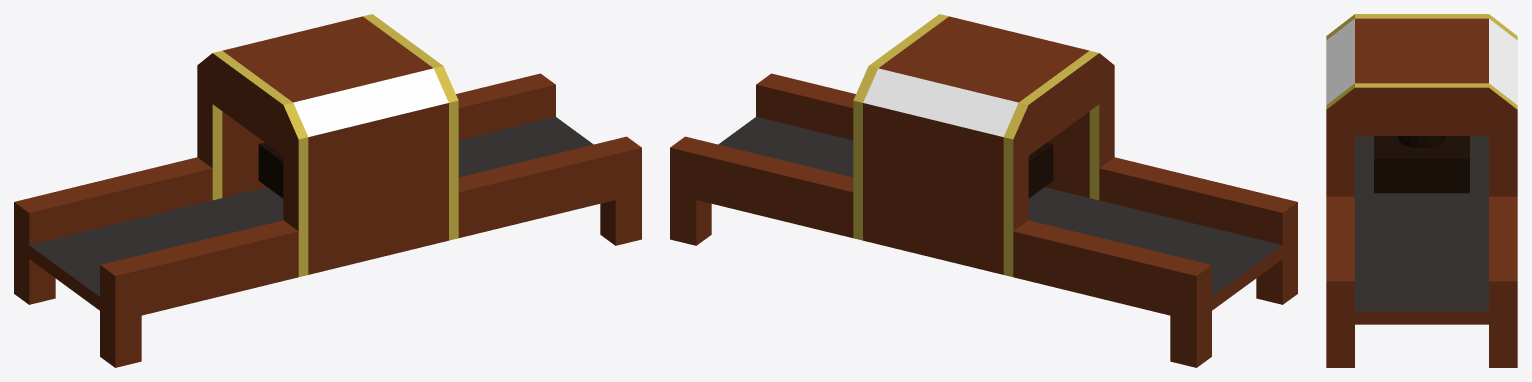
The model's file is Fabricateur.fbx.
The picture shows the model from 3 angles, left to right: view 1: azimuth 30°, elevation 25°; view 2: azimuth 150°, elevation 25°; view 3: azimuth 270°, elevation 25°; orthographic projection. The views are drawn at different scales.
Visible parts, largest first — view 1: Fabricateur, TetePiston; view 2: Fabricateur, TetePiston; view 3: Fabricateur, TetePiston.
Part boxes in pixels (left/top/right/bottom): Fabricateur: left=14, top=14, right=641, bottom=367; TetePiston: left=258, top=142, right=283, bottom=198; Fabricateur: left=670, top=14, right=1297, bottom=367; TetePiston: left=1028, top=142, right=1053, bottom=198; Fabricateur: left=1326, top=14, right=1517, bottom=367; TetePiston: left=1374, top=136, right=1469, bottom=193.
Bounding box in the file's own units: 600 × 226 × 200.
